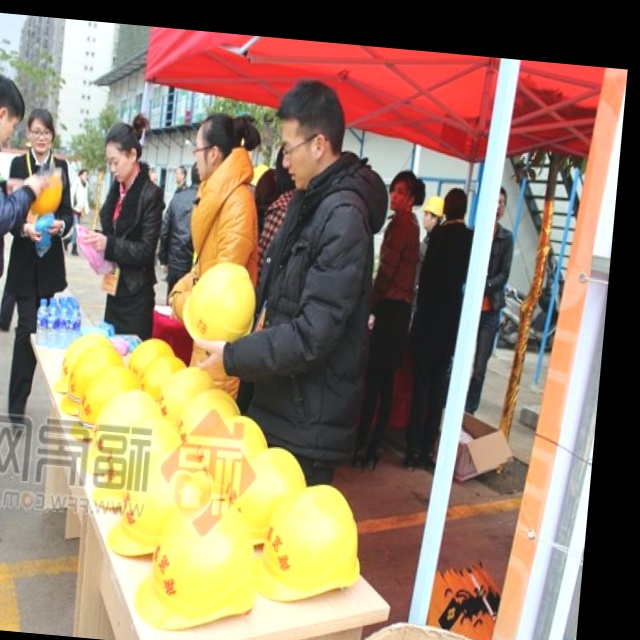Con_Casco: (180, 258, 258, 352)
Sin_Casco_Mascarrilla: (272, 79, 348, 189), (192, 106, 244, 185), (101, 120, 143, 180), (385, 169, 427, 214), (26, 106, 57, 157), (442, 184, 470, 225)
